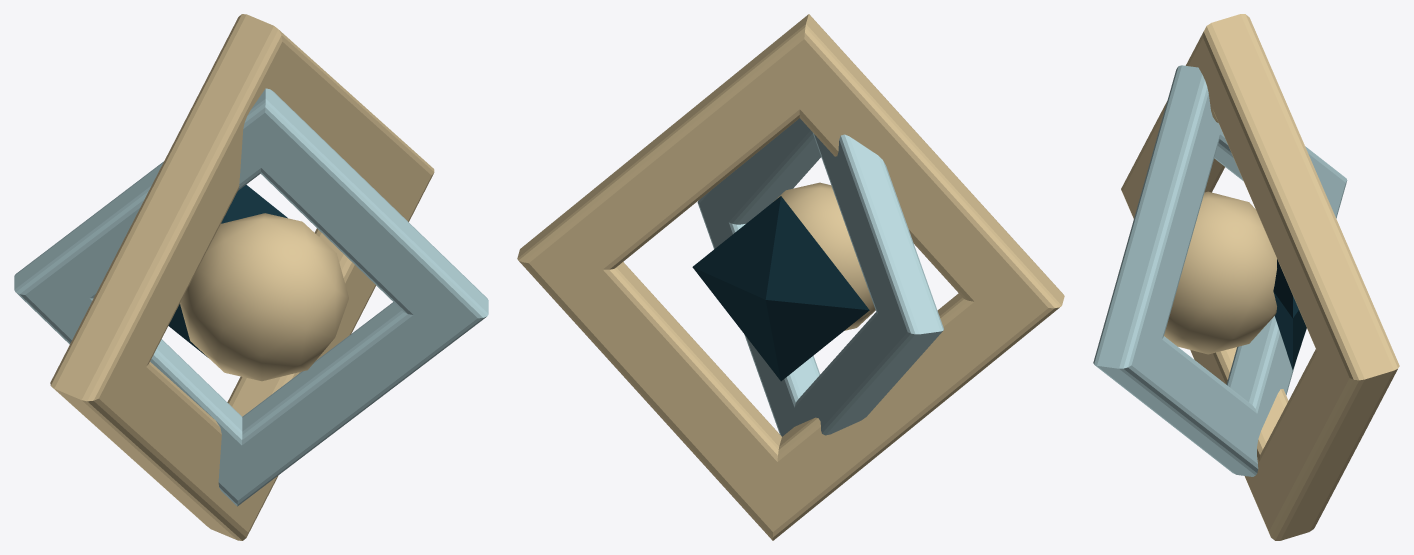
File: trophy.glb
The picture shows the model from 3 angles, left to right: view 1: azimuth 30°, elevation 25°; view 2: azimuth 150°, elevation 25°; view 3: azimuth 270°, elevation 25°; orthographic projection. The views are drawn at different scales.
Visible parts, largest first — view 1: era-gate (×4); view 2: era-gate (×4); view 3: era-gate (×4).
Part boxes in pixels (box(x1,y1,x2,y2)): era-gate (×4): box(14, 14, 488, 540); era-gate (×4): box(517, 14, 1064, 540); era-gate (×4): box(1093, 14, 1399, 540).
Bounding box in the file's own units: 2.1 × 2.24 × 1.2.
